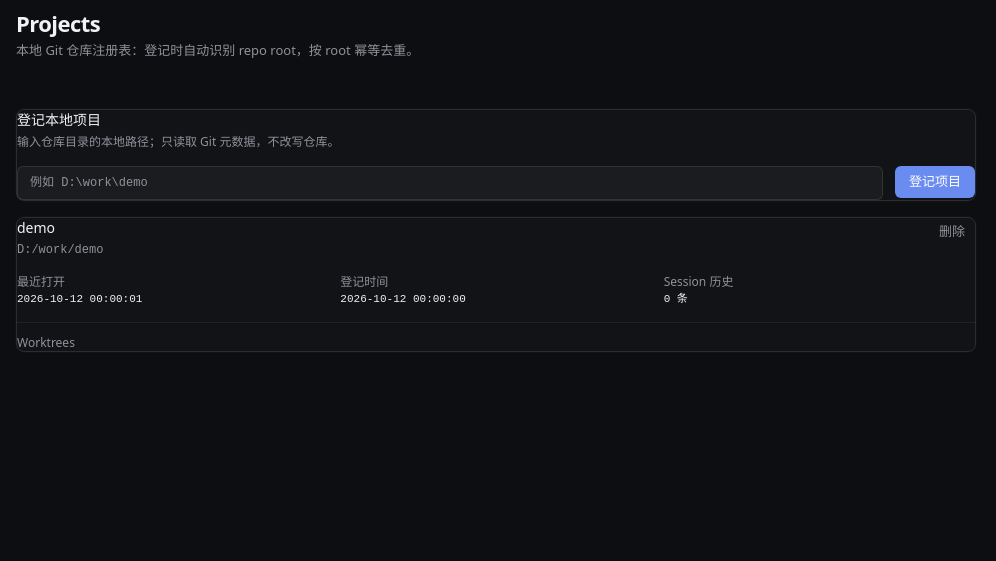
ProjectsPage › Worktrees 区（ROADMAP C10） › 创建失败（路径已占用）在表单内原样显示错误
Expected: the element "demo" is shown, [16,216,976,352]
Click the button "Worktrees": (46, 343) [17,335,75,351]
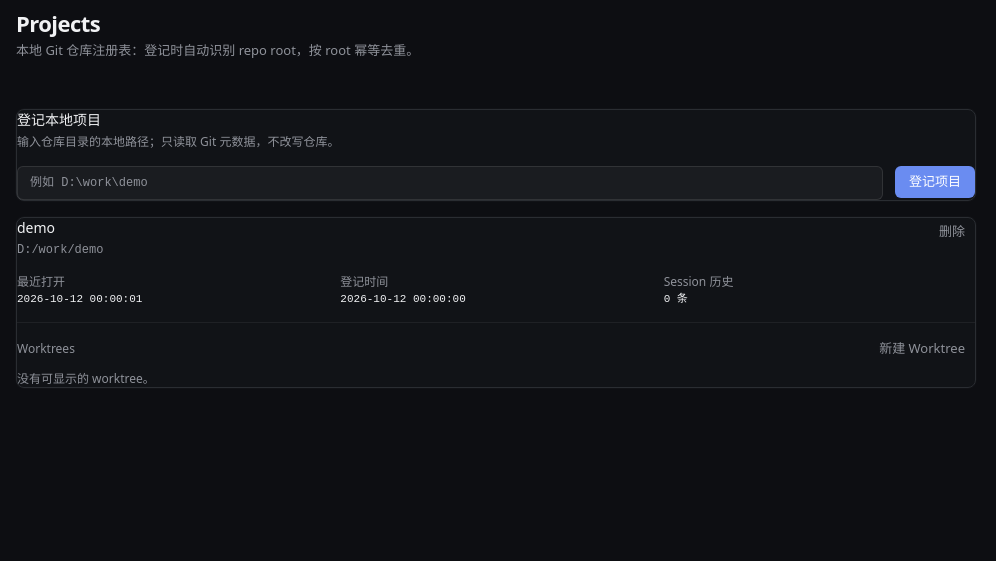
Click the button "新建 Worktree": (922, 349) [869,335,975,363]
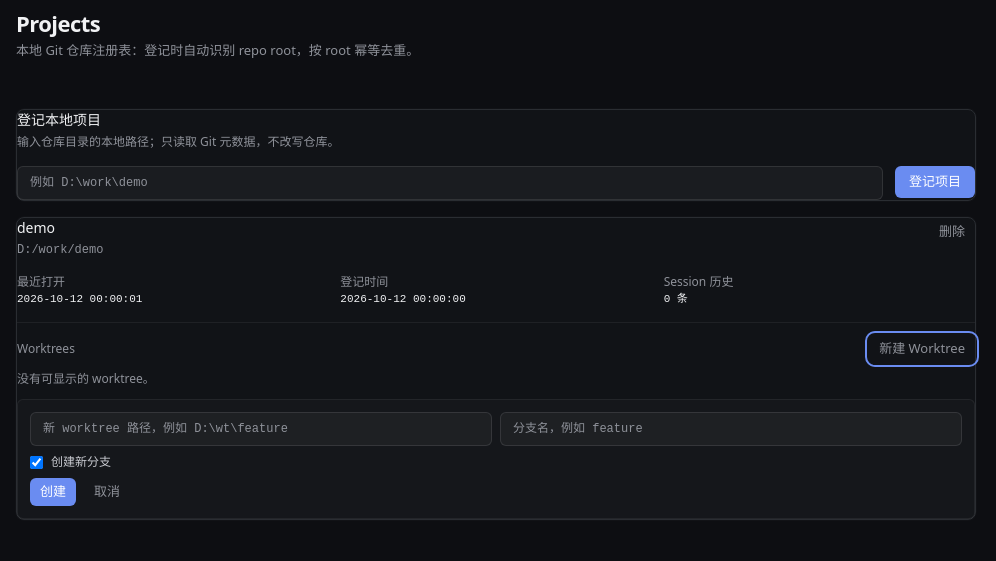
In the field labelled "worktree 路径": (261, 429) [30,412,492,446], type "D:/wt/feature"
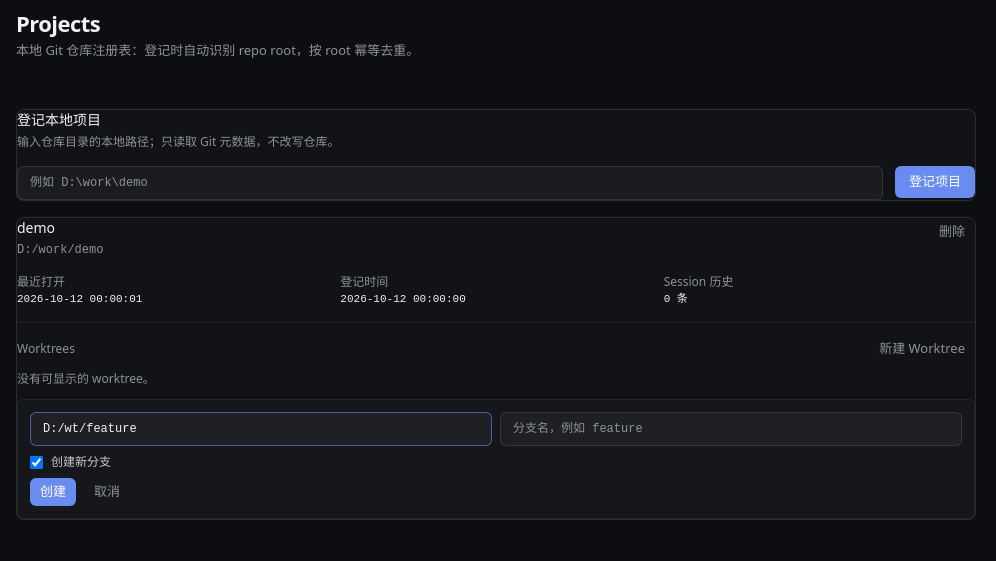
In the field labelled "分支名": (731, 429) [500,412,962,446], type "feature"
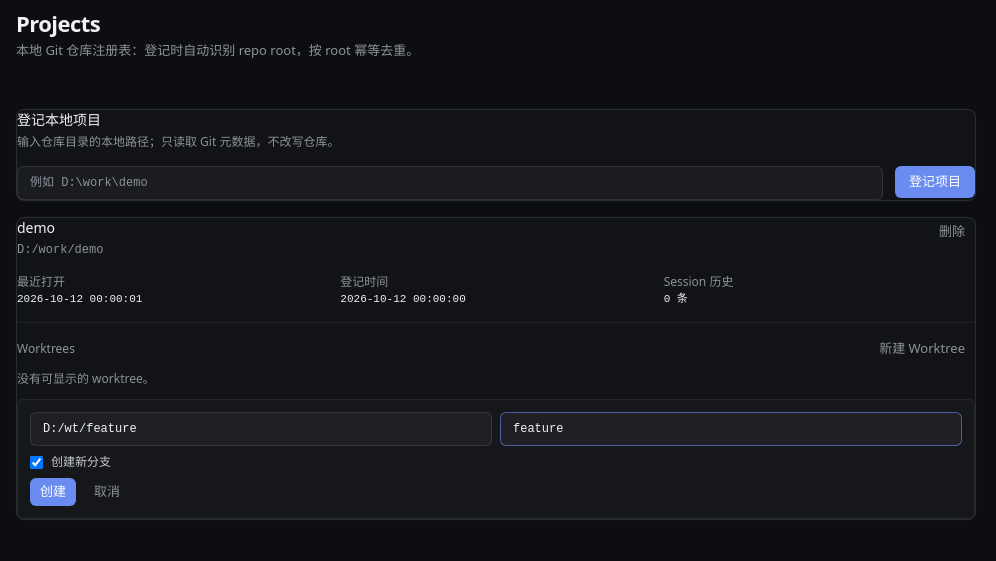
Click the button "创建": (53, 492) [30,478,76,506]
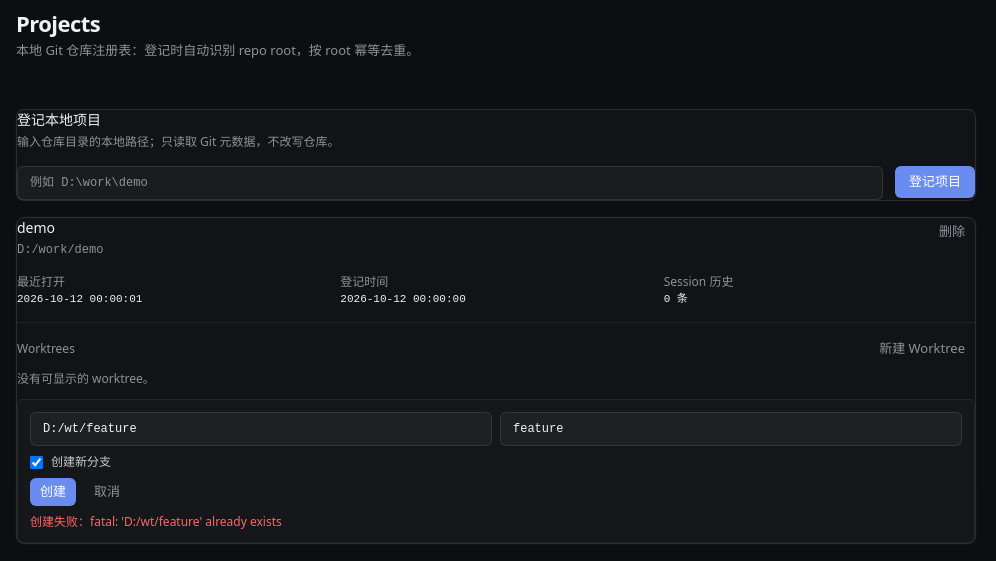
Now the message shows "fatal: 'D:/wt/feature' already exists", box [90,513,282,530]
